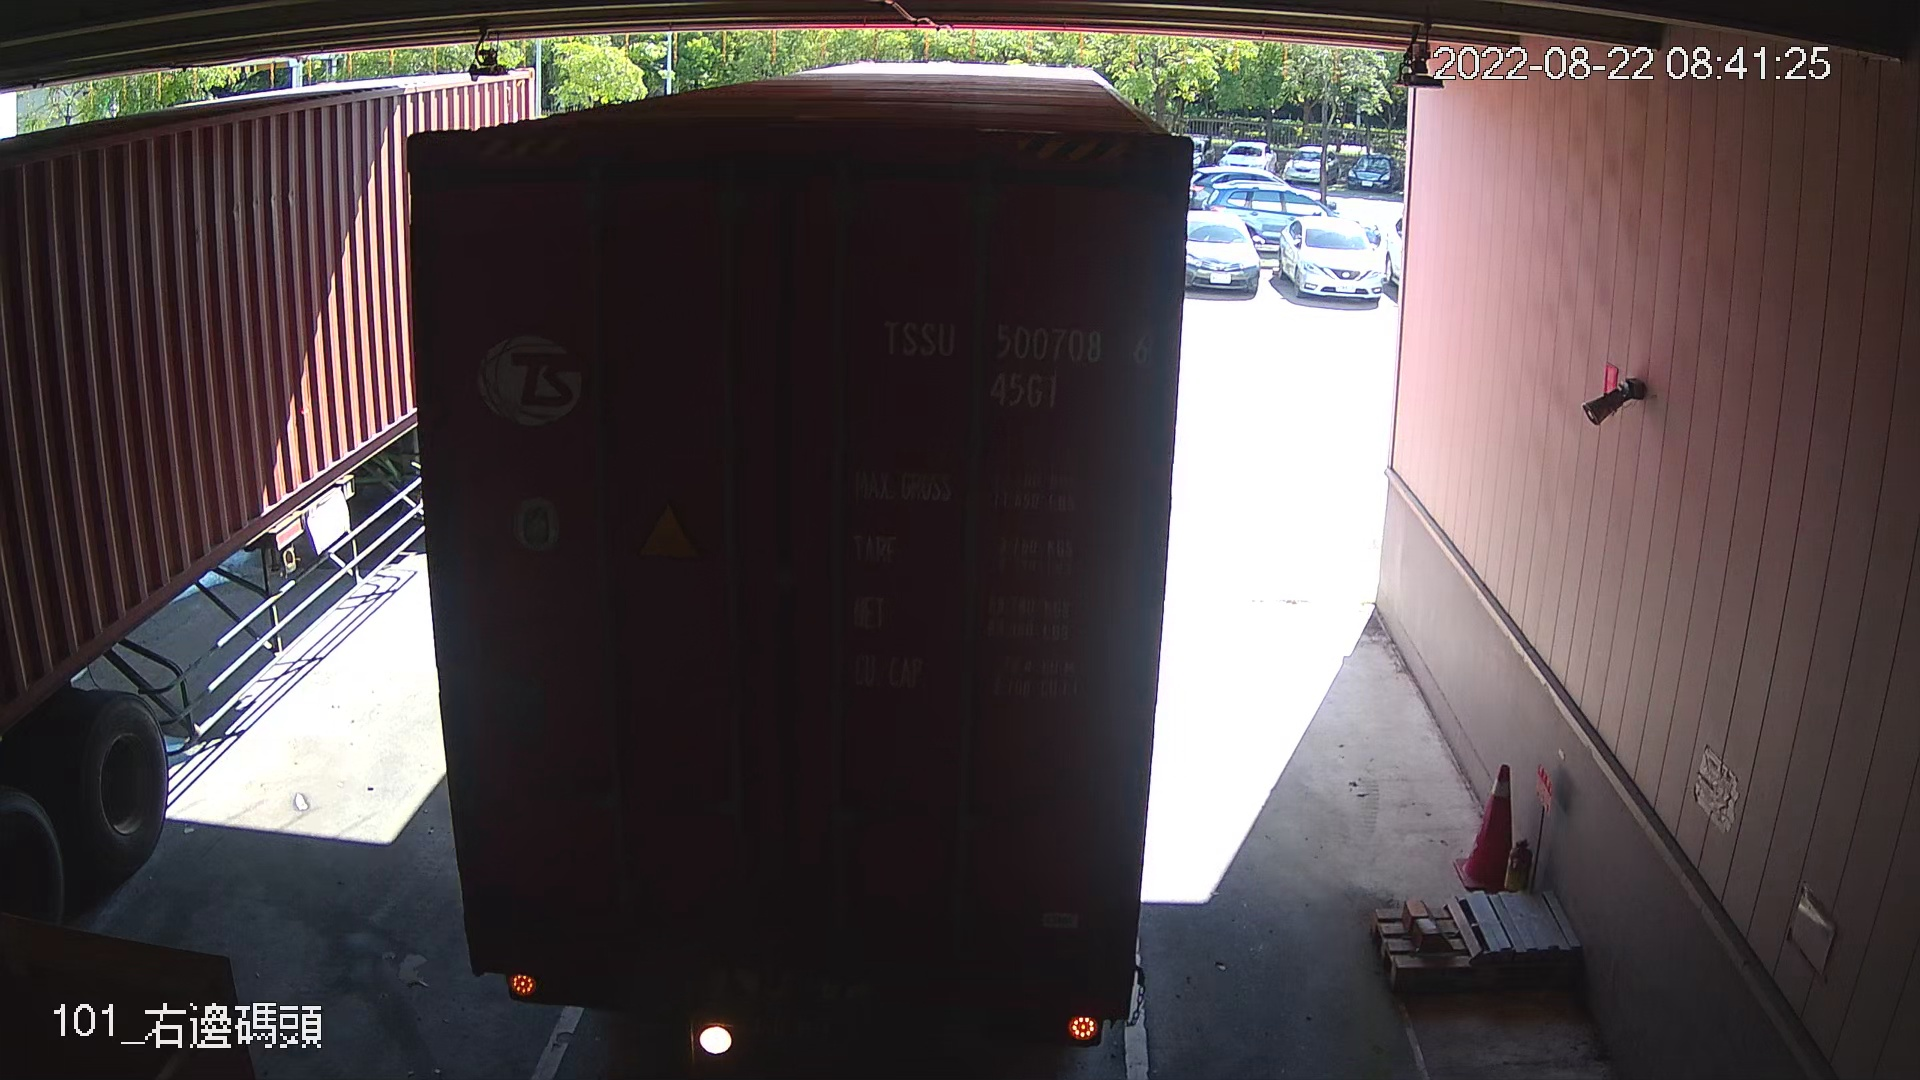container: (866, 302, 1162, 419)
